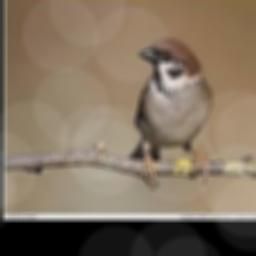Sparrow: (128, 37, 213, 186)
